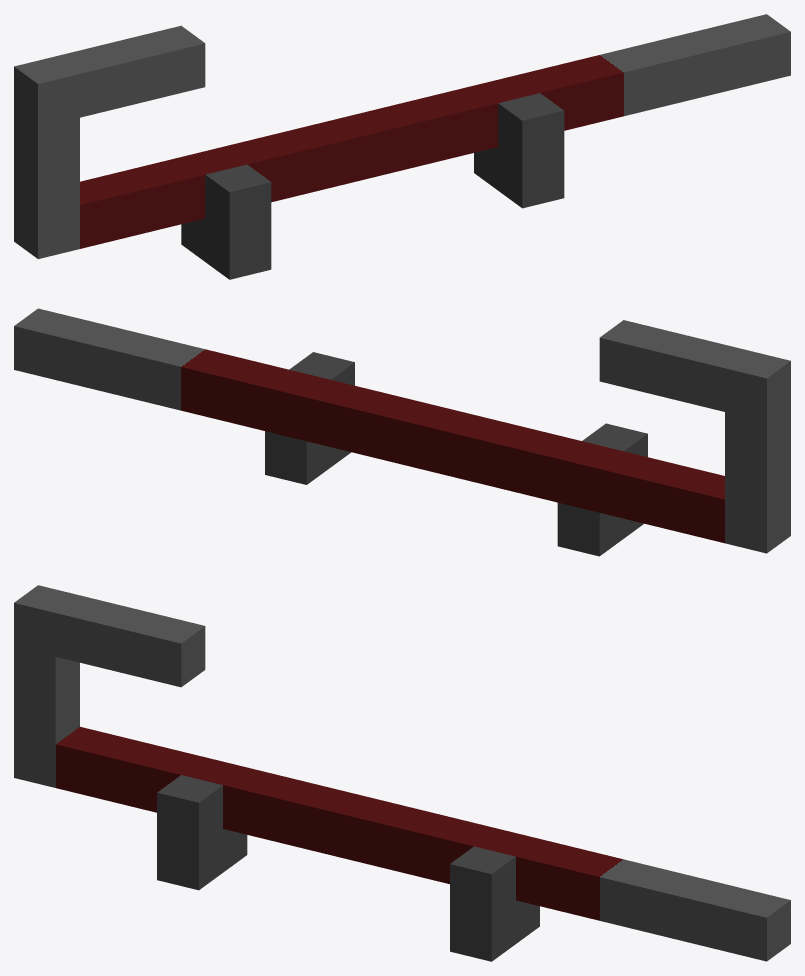
File: Crowbar.fbx
The picture shows the model from 3 angles, top to bottom: view 1: azimuth 30°, elevation 25°; view 2: azimuth 150°, elevation 25°; view 3: azimuth 330°, elevation 25°; orthographic projection.
Parts seen in each view (by area): view 1: Matrix; view 2: Matrix; view 3: Matrix.
Boxes of the visible parts, x1,y1,x2,y2 form: Matrix: (14, 14, 790, 279); Matrix: (14, 308, 790, 556); Matrix: (14, 585, 790, 961).
Size of the model in its own units: 18 by 5 by 2.
